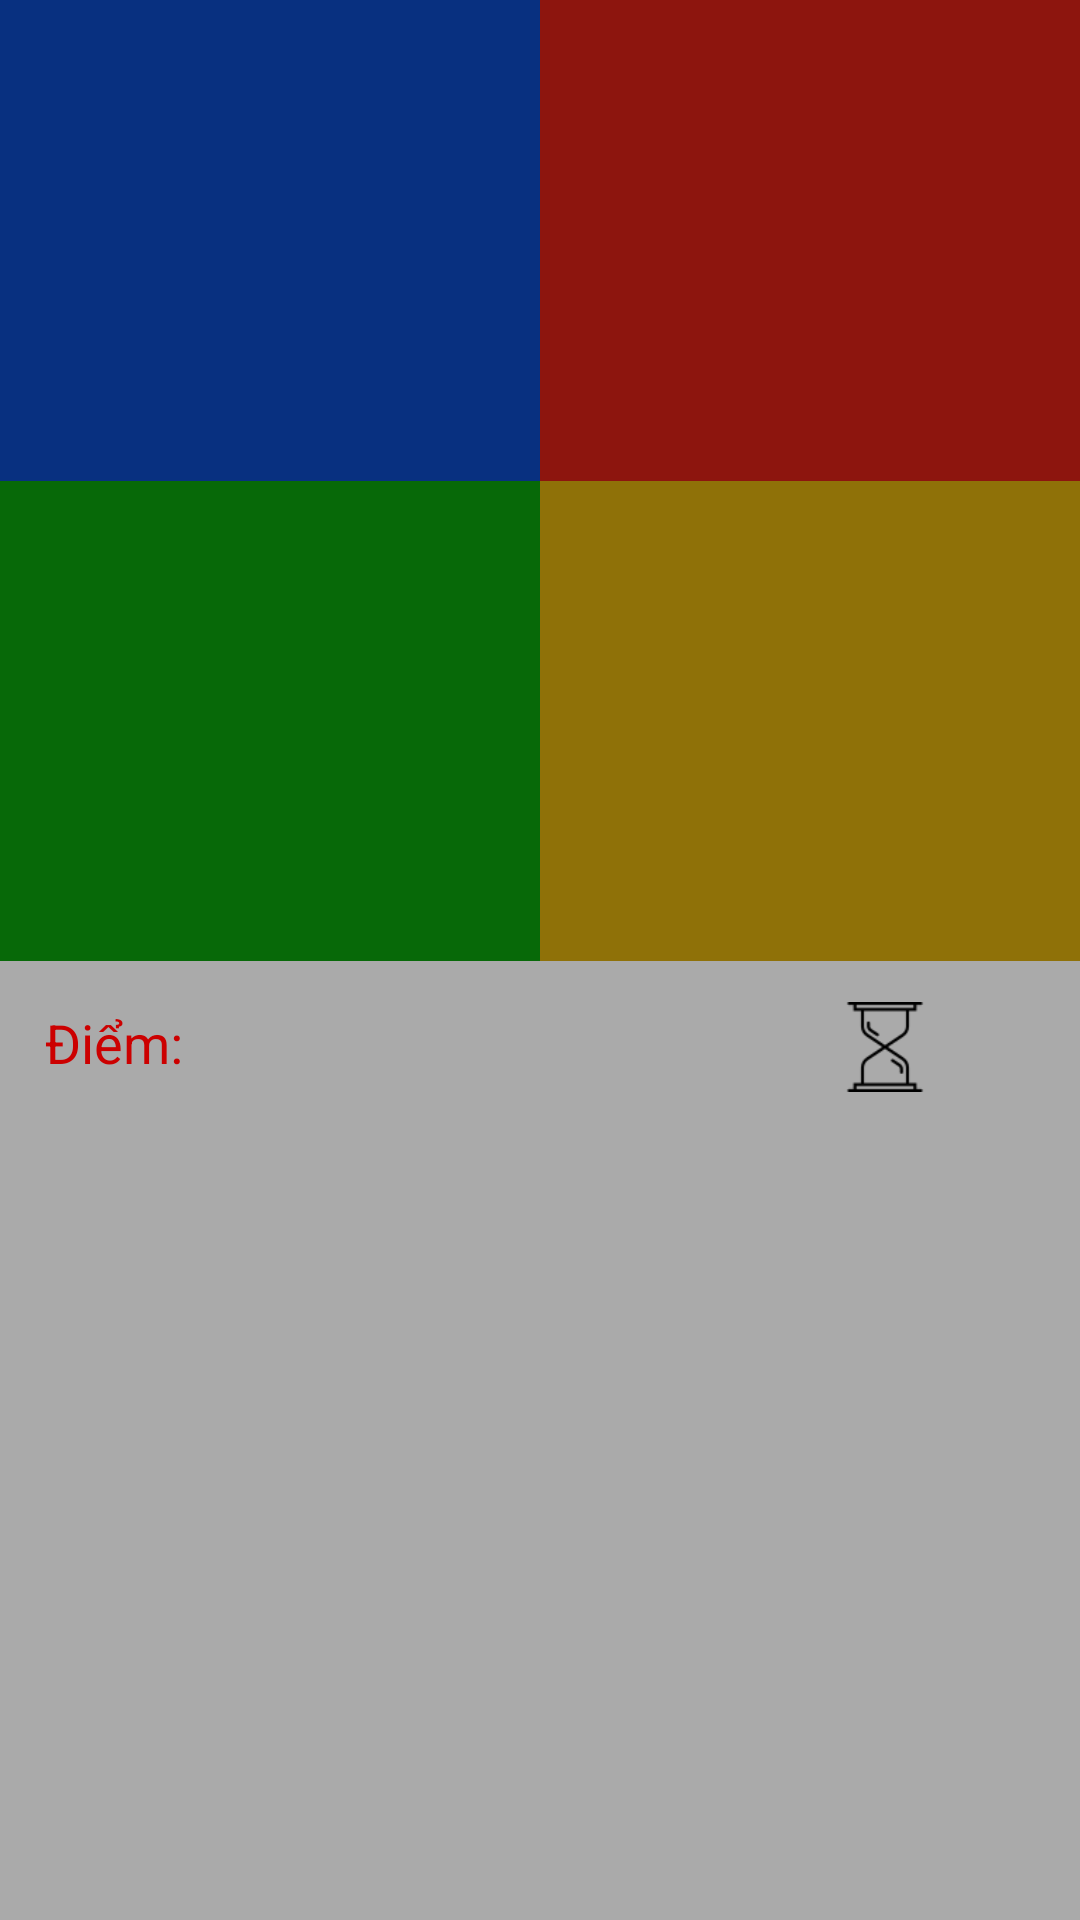

Named icons in this screenshot (1080x1920) and their bounding boxes, (x1, y1, x2, y2):
hourglass: (847, 1002, 923, 1092)
